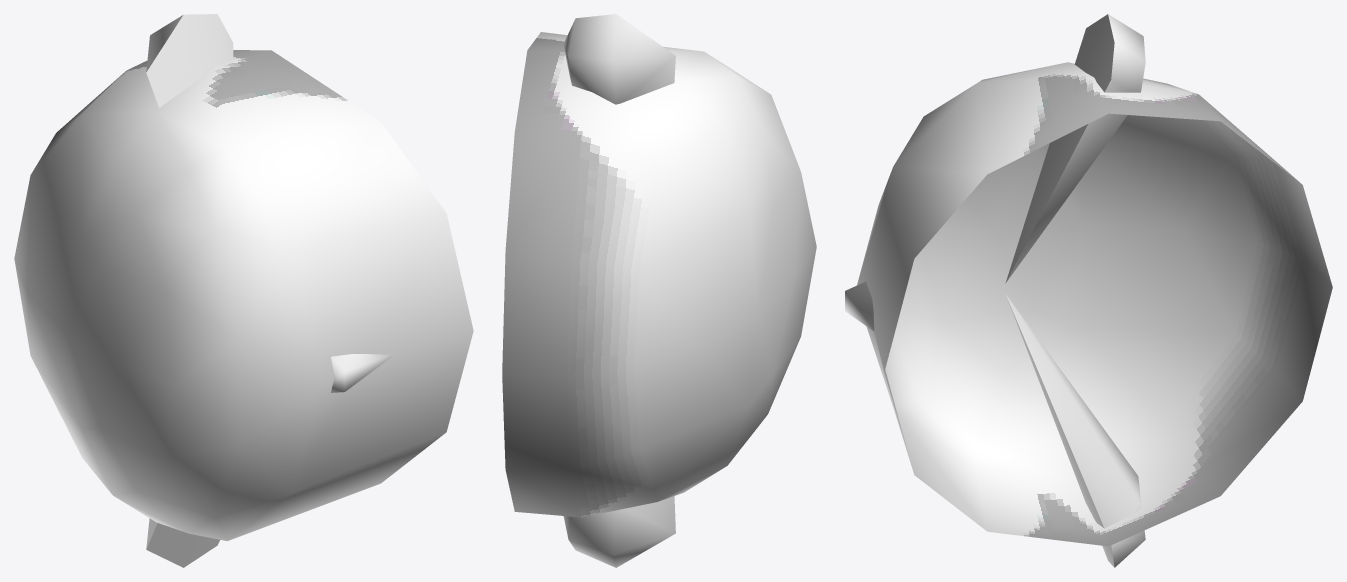
File: boy01b.dae
3 renders of one model, left to right at view 1: azimuth 30°, elevation 25°; view 2: azimuth 150°, elevation 25°; view 3: azimuth 270°, elevation 25°, orthographic.
Visible parts, largest first — view 1: boy01b; view 2: boy01b; view 3: boy01b.
Part boxes in pixels (x1,y1,x2,y2): boy01b: (14,14,473,567); boy01b: (502,14,816,567); boy01b: (845,14,1332,567).
Bounding box in the file's own units: 15.5 × 26.71 × 21.59.
Materials: 3 (1 with a texture image).
